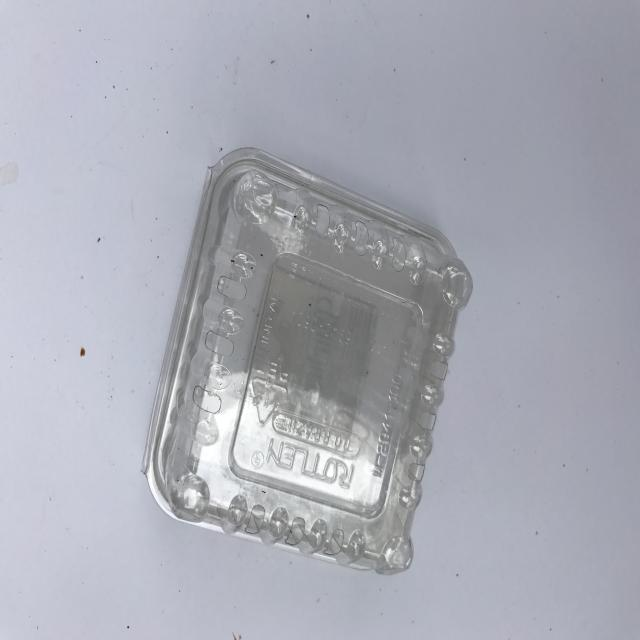plastic: (141, 146, 473, 575)
